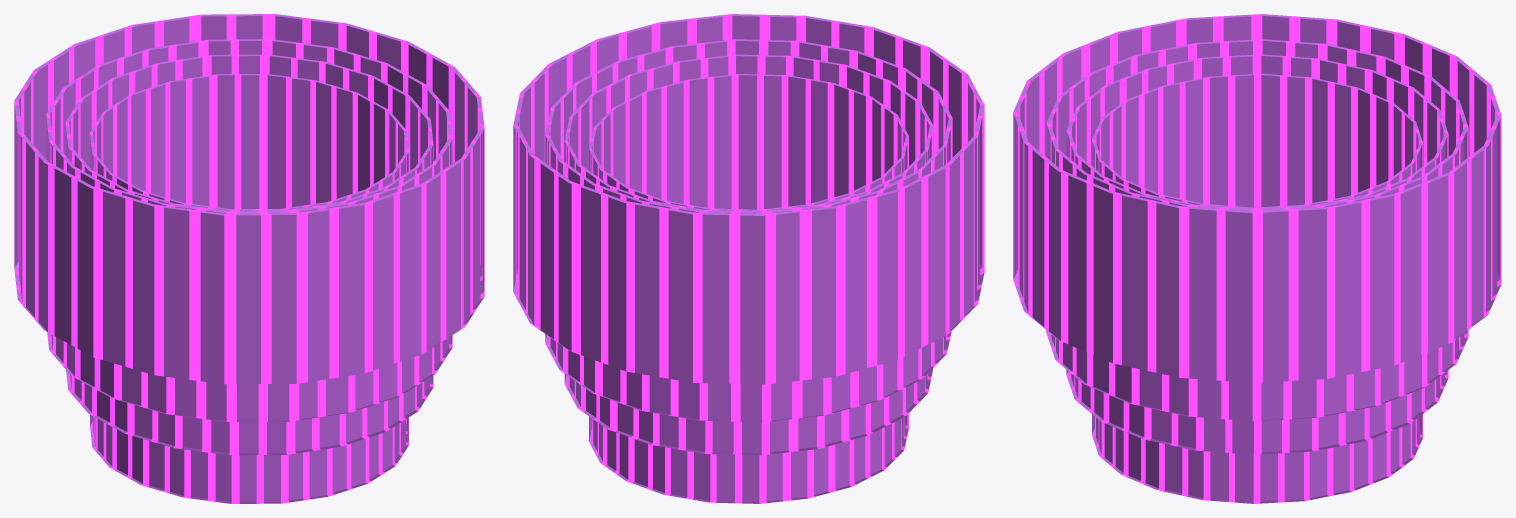
Rendered from Chandelier01_Anim.glb.
3 renders of one model, left to right at view 1: azimuth 30°, elevation 25°; view 2: azimuth 150°, elevation 25°; view 3: azimuth 270°, elevation 25°, orthographic.
Parts seen in each view (by area): view 1: den_chum_xoay; view 2: den_chum_xoay; view 3: den_chum_xoay.
Boxes of the visible parts, x1,y1,x2,y2 form: den_chum_xoay: (14,14,484,503); den_chum_xoay: (513,14,984,503); den_chum_xoay: (1013,14,1501,503).
Size of the model in its own units: 7.63 by 5.77 by 7.9.
